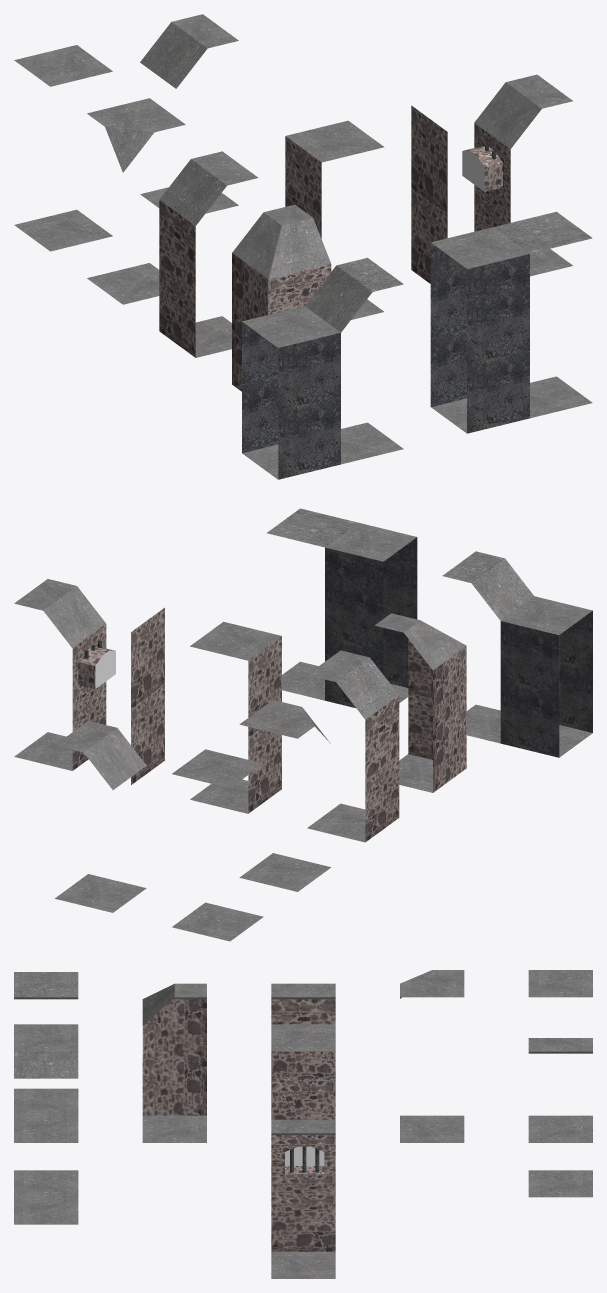
File: Skooks_V1.0.glb
3 renders of one model, top to bottom at view 1: azimuth 30°, elevation 25°; view 2: azimuth 150°, elevation 25°; view 3: azimuth 270°, elevation 25°, orthographic. The views are drawn at different scales.
Parts seen in each view (by area): view 1: Tunnel.Tall-col, Tunnel-col, Wall.003-col, Wall_corner-col, Wall.Key-col, Wall.001-col, Floor_corner-col, Wall.002-col, Floor.001-col, Floor.002-col; view 2: Tunnel-col, Tunnel.Tall-col, Wall_corner-col, Wall.003-col, Wall.Key-col, Wall.002-col, Floor.002-col, Wall.001-col, Floor.001-col, Floor_corner-col; view 3: Wall.Key-col, Wall_corner-col, Tunnel.Tall-col, Tunnel-col, Floor.001-col, Wall.002-col, Floor_corner-col, Floor.002-col, Wall.003-col, Wall.001-col.
Boxes of the visible parts, x1,y1,x2,y2 form: Tunnel.Tall-col: (430, 211, 592, 433); Tunnel-col: (242, 257, 403, 479); Wall.003-col: (159, 151, 258, 357); Wall_corner-col: (232, 204, 331, 391); Wall.Key-col: (462, 74, 572, 276); Wall.001-col: (411, 105, 447, 283); Floor_corner-col: (87, 98, 185, 304); Wall.002-col: (285, 120, 384, 319); Floor.001-col: (14, 45, 112, 251); Floor.002-col: (140, 14, 238, 213); Tunnel-col: (442, 551, 592, 757); Tunnel.Tall-col: (266, 508, 417, 707); Wall_corner-col: (375, 613, 466, 792); Wall.003-col: (307, 650, 399, 842); Wall.Key-col: (14, 579, 115, 770); Wall.002-col: (190, 621, 281, 813); Floor.002-col: (55, 720, 146, 912); Wall.001-col: (131, 607, 164, 784); Floor.001-col: (172, 749, 263, 941); Floor_corner-col: (239, 700, 330, 891); Wall.Key-col: (271, 1119, 335, 1278); Wall_corner-col: (142, 983, 206, 1142); Tunnel.Tall-col: (14, 1024, 78, 1224); Tunnel-col: (14, 972, 78, 1142); Floor.001-col: (528, 970, 592, 1142); Wall.002-col: (271, 1024, 335, 1078); Floor_corner-col: (400, 970, 464, 1142); Floor.002-col: (528, 1038, 592, 1197); Wall.003-col: (271, 983, 335, 1024); Wall.001-col: (271, 1078, 335, 1119).
Size of the model in its own units: 7 by 2.5 by 9.
Materials: 1 (1 with a texture image).
